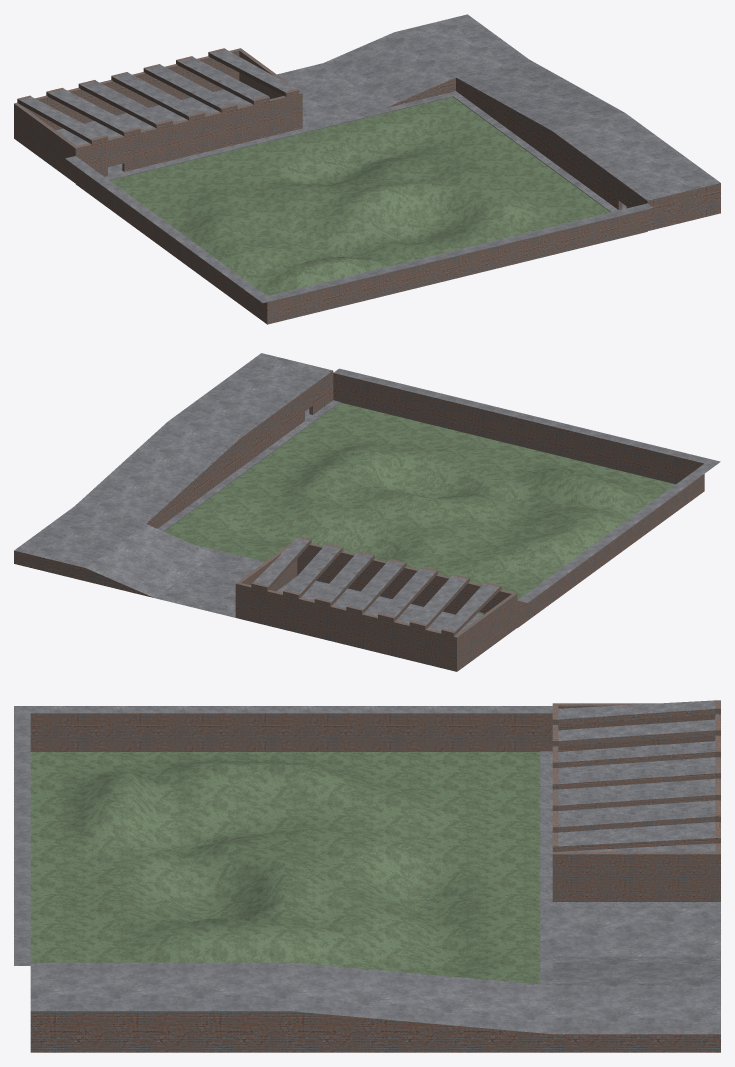
File: scuffed_construct.glb
3 renders of one model, top to bottom at view 1: azimuth 30°, elevation 25°; view 2: azimuth 150°, elevation 25°; view 3: azimuth 270°, elevation 25°, orthographic. The views are drawn at different scales.
Visible parts, largest first — view 1: grass, ramp, half roof building, wall; view 2: grass, ramp, half roof building, wall; view 3: grass, ramp, half roof building, wall.
Part boxes in pixels (left/top/right/bottom): grass: left=110, top=97, right=610, bottom=295; ramp: left=277, top=14, right=720, bottom=230; half roof building: left=14, top=48, right=316, bottom=183; wall: left=65, top=156, right=653, bottom=324; grass: left=164, top=402, right=675, bottom=614; ramp: left=14, top=353, right=340, bottom=615; half roof building: left=227, top=536, right=517, bottom=671; wall: left=333, top=368, right=720, bottom=627; grass: left=30, top=752, right=540, bottom=984; ramp: left=30, top=908, right=720, bottom=1052; half roof building: left=540, top=700, right=720, bottom=908; wall: left=14, top=706, right=552, bottom=965.
Size of the model in its own units: 130 by 13.78 by 126.
3 materials, 3 textured.
